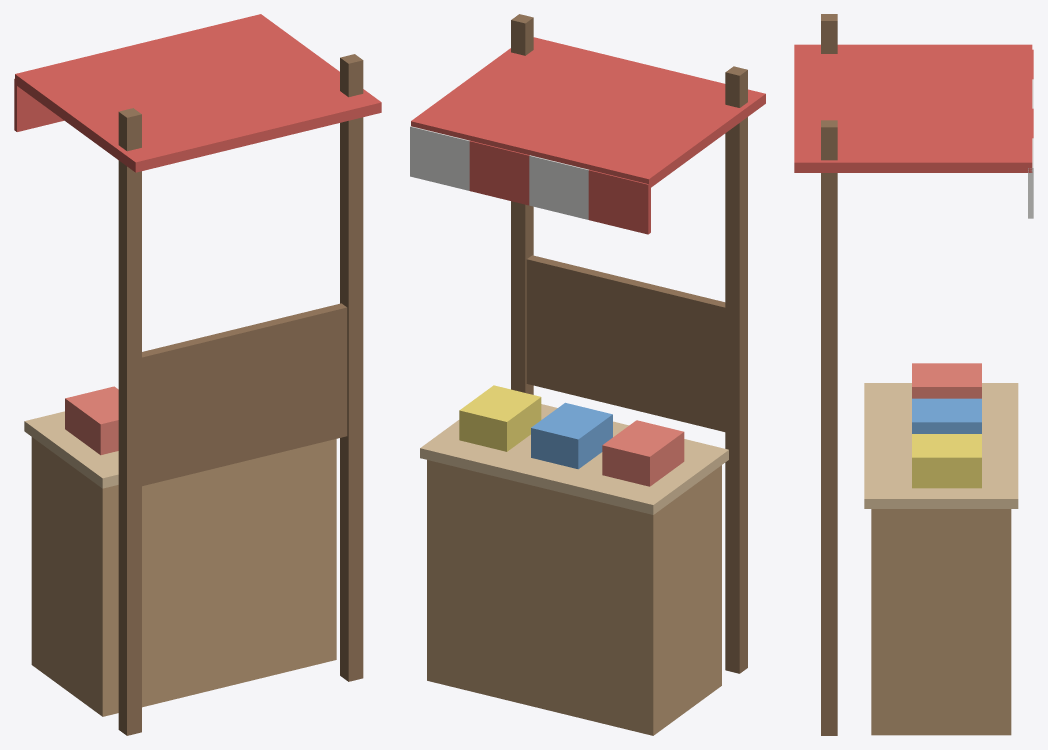
File: shop_stall.glb
The picture shows the model from 3 angles, left to right: view 1: azimuth 30°, elevation 25°; view 2: azimuth 150°, elevation 25°; view 3: azimuth 270°, elevation 25°; orthographic projection. The views are drawn at different scales.
Parts seen in each view (by area): view 1: shop_stall; view 2: shop_stall; view 3: shop_stall.
Part boxes in pixels (box(x1,y1,x2,y2)): shop_stall: box(14, 14, 381, 735); shop_stall: box(410, 14, 765, 735); shop_stall: box(794, 14, 1033, 735).
Bounding box in the file's own units: 1 × 2.4 × 0.855.
